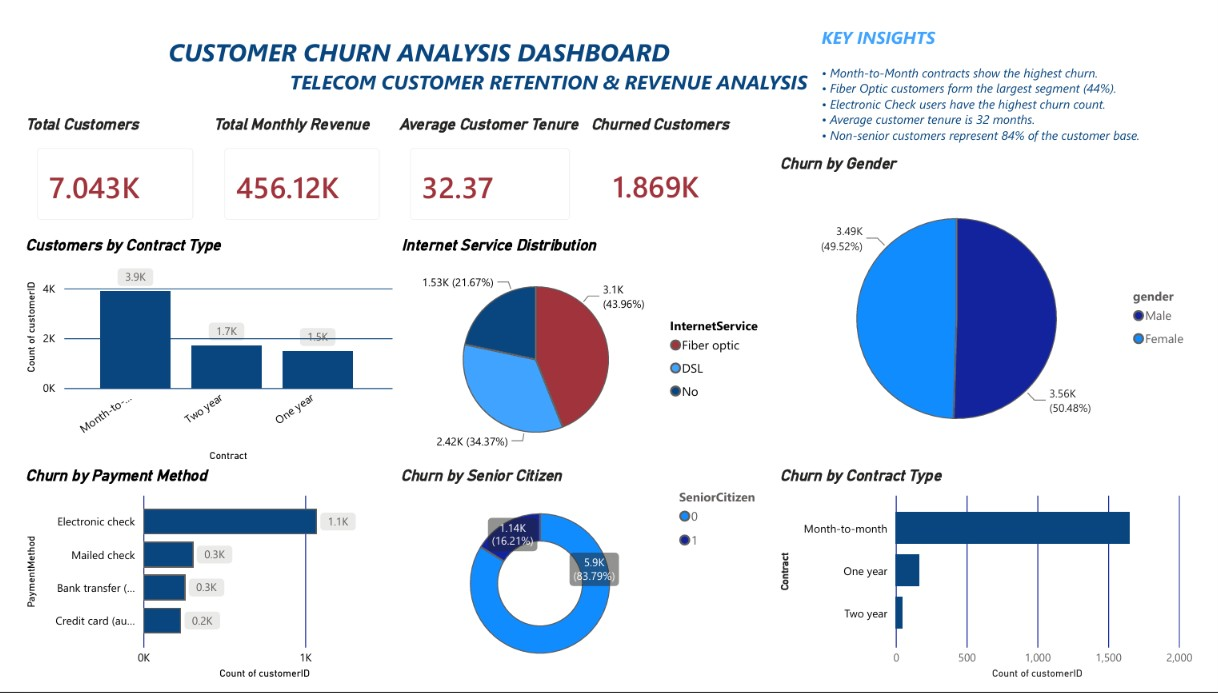

Layout of this report page (visuals, bound fields, positions):
{"tool":"powerbi","page":{"name":"Duplicate of Page 1","canvas":[1280,720],"ordinal":0},"visuals":[{"type":"clusteredColumnChart","title":"Customers by Contract Type","fields":{"Category":["WA_Fn-UseC_-Telco-Customer-Churn.Contract"],"Y":["Count(WA_Fn-UseC_-Telco-Customer-Churn.customerID)"]},"box":[0,233.3,443.2,236],"z":0},{"type":"clusteredBarChart","title":"Churn by Payment Method","fields":{"Category":["WA_Fn-UseC_-Telco-Customer-Churn.PaymentMethod"],"Y":["Count(WA_Fn-UseC_-Telco-Customer-Churn.customerID)"]},"box":[0,484.4,443.2,236],"z":1000},{"type":"pieChart","title":"Internet Service Distribution","fields":{"Category":["WA_Fn-UseC_-Telco-Customer-Churn.InternetService"],"Y":["Count(WA_Fn-UseC_-Telco-Customer-Churn.customerID)"]},"box":[443.2,244.3,443,224],"z":2000},{"type":"cardVisual","title":"Total Customers","fields":{"Data":["Count(WA_Fn-UseC_-Telco-Customer-Churn.customerID)"]},"box":[0,101.5,259.3,131.7],"z":3000},{"type":"cardVisual","title":"Total Monthly Revenue","fields":{"Data":["Sum(WA_Fn-UseC_-Telco-Customer-Churn.MonthlyCharges)"]},"box":[259.3,101.5,259,139],"z":4000},{"type":"cardVisual","title":"Average Customer Tenure","fields":{"Data":["Avg(WA_Fn-UseC_-Telco-Customer-Churn.tenure)"]},"box":[520.1,101.5,259,144],"z":5000},{"type":"cardVisual","title":"Churned Customers","fields":{"Data":["Count(WA_Fn-UseC_-Telco-Customer-Churn.customerID)"]},"box":[775.3,101.5,259,144.1],"z":6000},{"type":"textbox","box":[209.9,9.6,798.6,91.9],"z":7000},{"type":"pieChart","title":"Churn by Gender","fields":{"Category":["WA_Fn-UseC_-Telco-Customer-Churn.gender"],"Y":["CountNonNull(WA_Fn-UseC_-Telco-Customer-Churn.customerID)"]},"box":[854.9,244.3,425.4,223],"z":8000},{"type":"donutChart","title":"Churn by Senior Citizen","fields":{"Category":["WA_Fn-UseC_-Telco-Customer-Churn.SeniorCitizen"],"Y":["CountNonNull(WA_Fn-UseC_-Telco-Customer-Churn.customerID)"]},"box":[443.2,496.7,443,224],"z":9000},{"type":"clusteredBarChart","title":"Churn by Contract Type","fields":{"Category":["WA_Fn-UseC_-Telco-Customer-Churn.Contract"],"Y":["CountNonNull(WA_Fn-UseC_-Telco-Customer-Churn.customerID)"]},"box":[854.9,496.7,425.4,223.7],"z":10000},{"type":"textbox","box":[1034.7,0,245.6,233.3],"z":10001}]}

Visuals, with their boxes in screenshot pixels (x1, y1, x2, y2), scaled from the page's 1280x720 canvas onto the 1218x693 screenshot:
"Customers by Contract Type" clusteredColumnChart: region(0, 225, 422, 452)
"Churn by Payment Method" clusteredBarChart: region(0, 466, 422, 692)
"Internet Service Distribution" pieChart: region(422, 235, 843, 451)
"Total Customers" cardVisual: region(0, 98, 247, 224)
"Total Monthly Revenue" cardVisual: region(247, 98, 493, 231)
"Average Customer Tenure" cardVisual: region(495, 98, 741, 236)
"Churned Customers" cardVisual: region(738, 98, 984, 236)
textbox: region(200, 9, 960, 98)
"Churn by Gender" pieChart: region(813, 235, 1217, 450)
"Churn by Senior Citizen" donutChart: region(422, 478, 843, 692)
"Churn by Contract Type" clusteredBarChart: region(813, 478, 1217, 692)
textbox: region(985, 0, 1217, 225)
